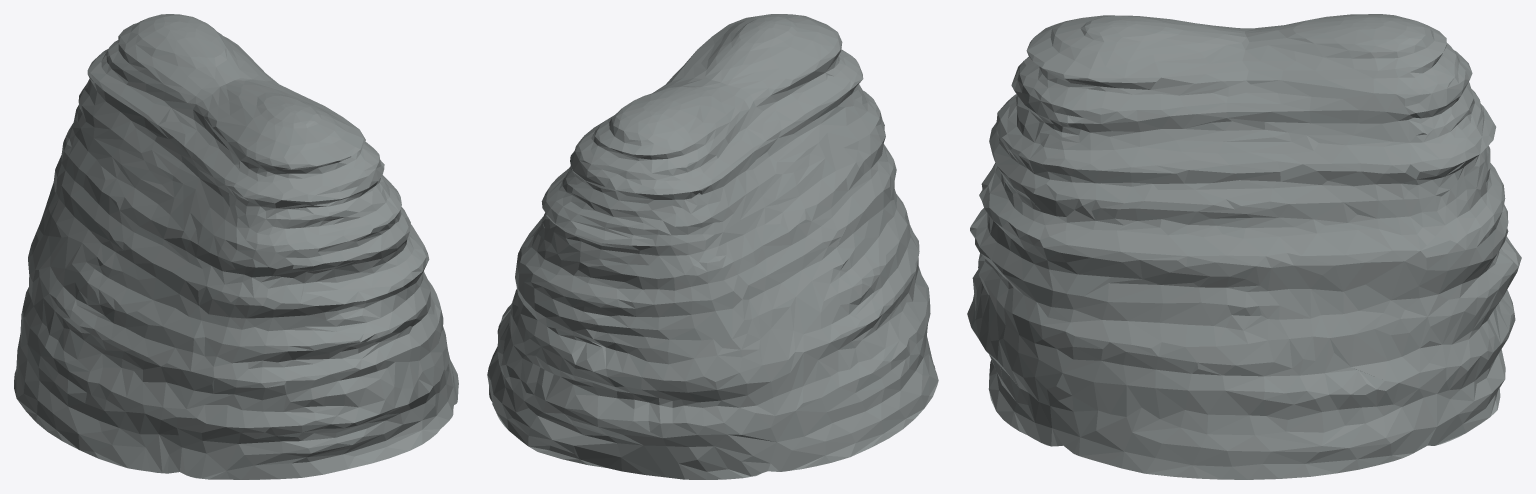
File: mesh_rock_huge_05.fbx
3 views of the same model, side by side, from view 1: azimuth 30°, elevation 25°; view 2: azimuth 150°, elevation 25°; view 3: azimuth 270°, elevation 25° (orthographic). The views are drawn at different scales.
Visible parts, largest first — view 1: mesh_rock_huge_05_LOD0; view 2: mesh_rock_huge_05_LOD0; view 3: mesh_rock_huge_05_LOD0.
Part boxes in pixels (bbox=[...]): mesh_rock_huge_05_LOD0: bbox=[14, 14, 458, 479]; mesh_rock_huge_05_LOD0: bbox=[487, 14, 938, 479]; mesh_rock_huge_05_LOD0: bbox=[967, 14, 1521, 479].
Size of what is drawn, in the model's own units: 7.22 by 5.8 by 8.22.
